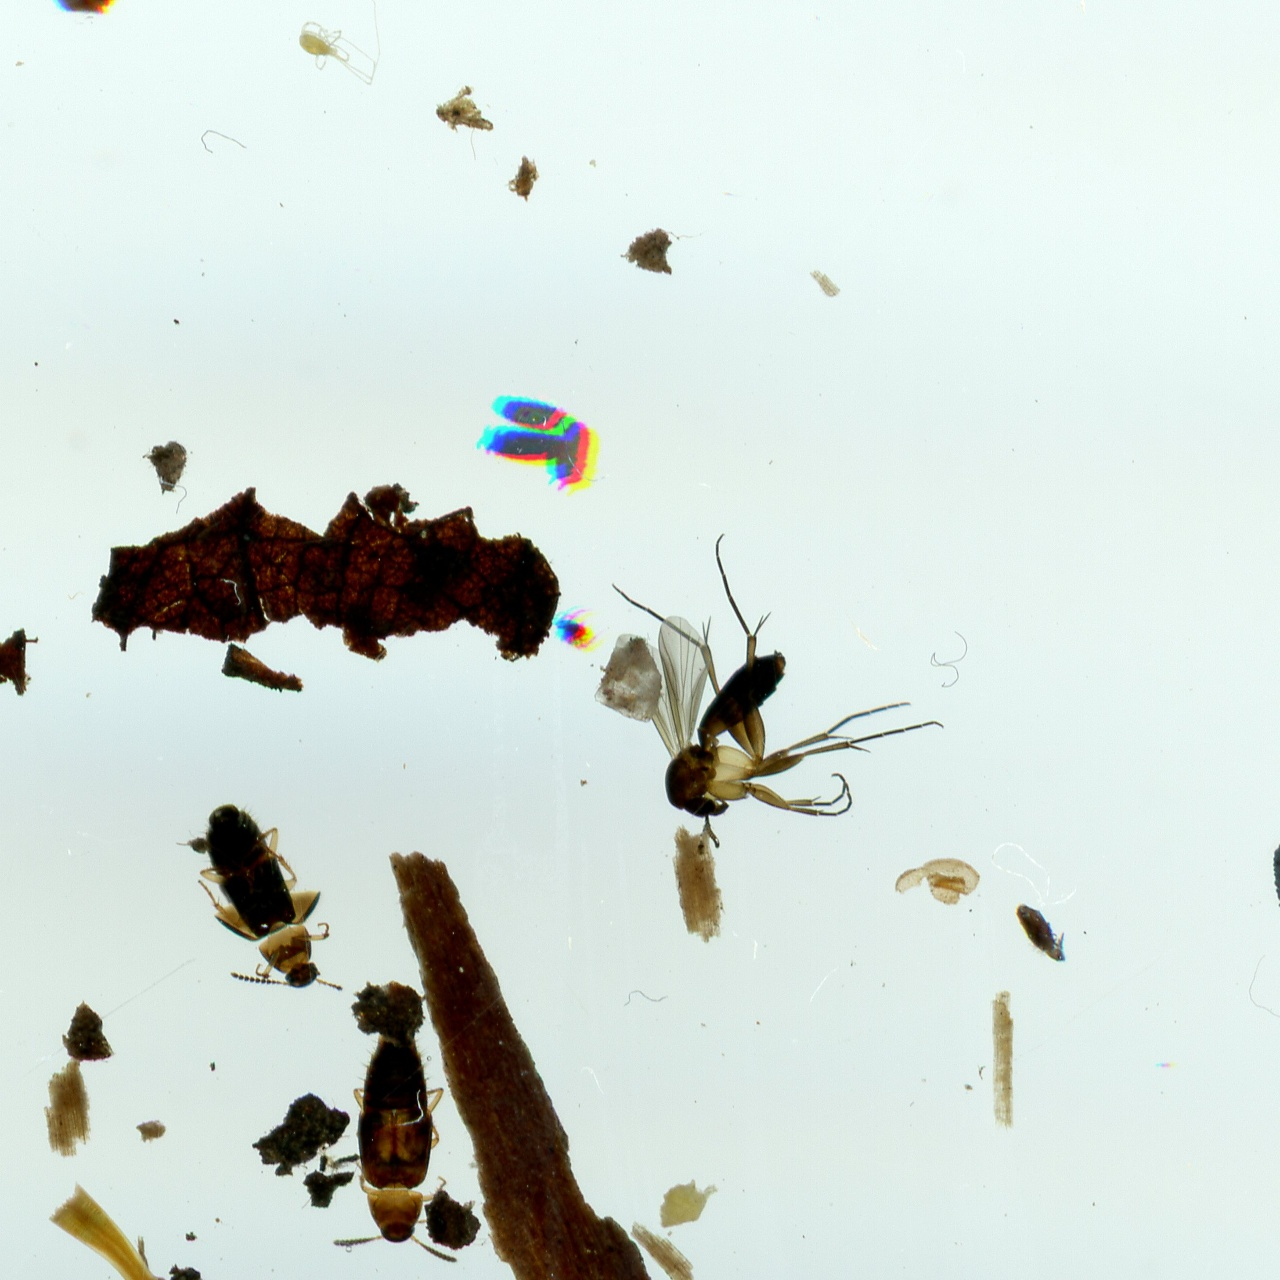arthropod: (604, 525, 956, 855), (170, 778, 366, 1033), (331, 1032, 461, 1276), (294, 0, 383, 88), (1006, 888, 1083, 979), (472, 421, 563, 468), (552, 416, 598, 495), (497, 392, 571, 438), (553, 606, 608, 651), (1272, 839, 1280, 910)
